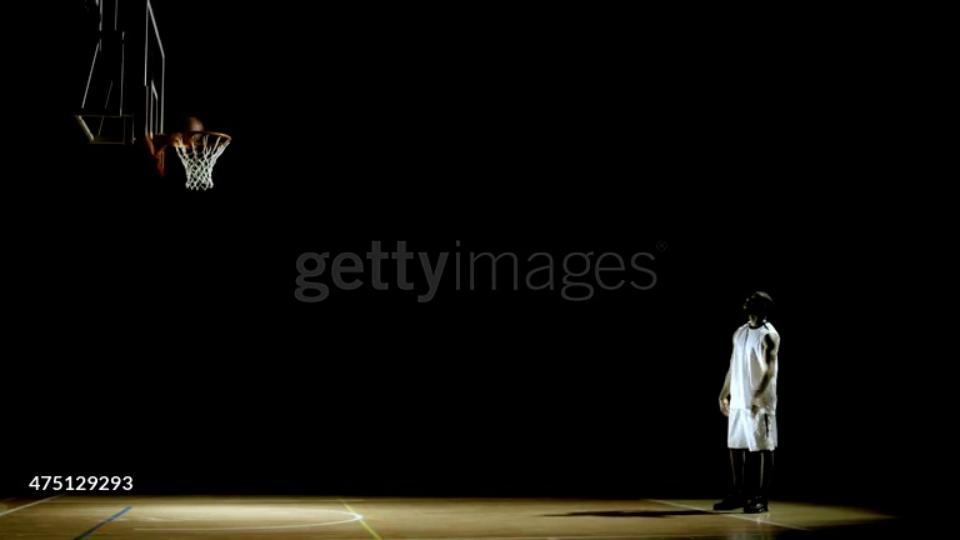hoop: (152, 125, 238, 154)
